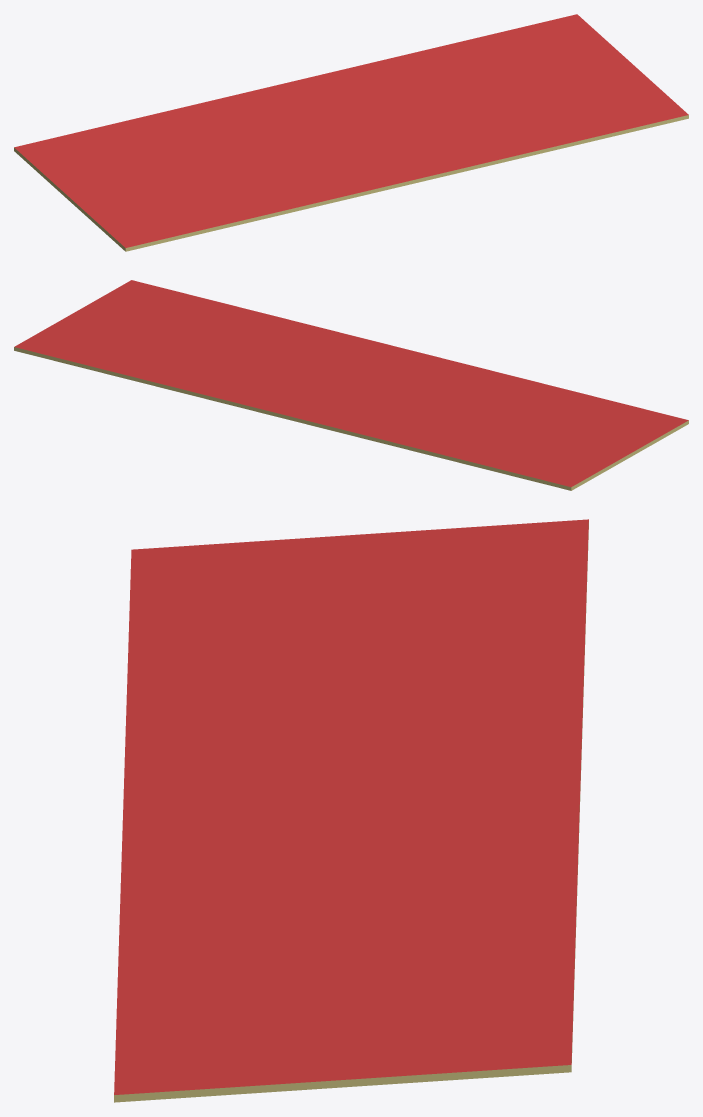
3 renders of one model, top to bottom at view 1: azimuth 30°, elevation 25°; view 2: azimuth 150°, elevation 25°; view 3: azimuth 270°, elevation 25°, orthographic. The views are drawn at different scales.
Size of the model in its own units: 15.86 by 5.81 by 0.543.
